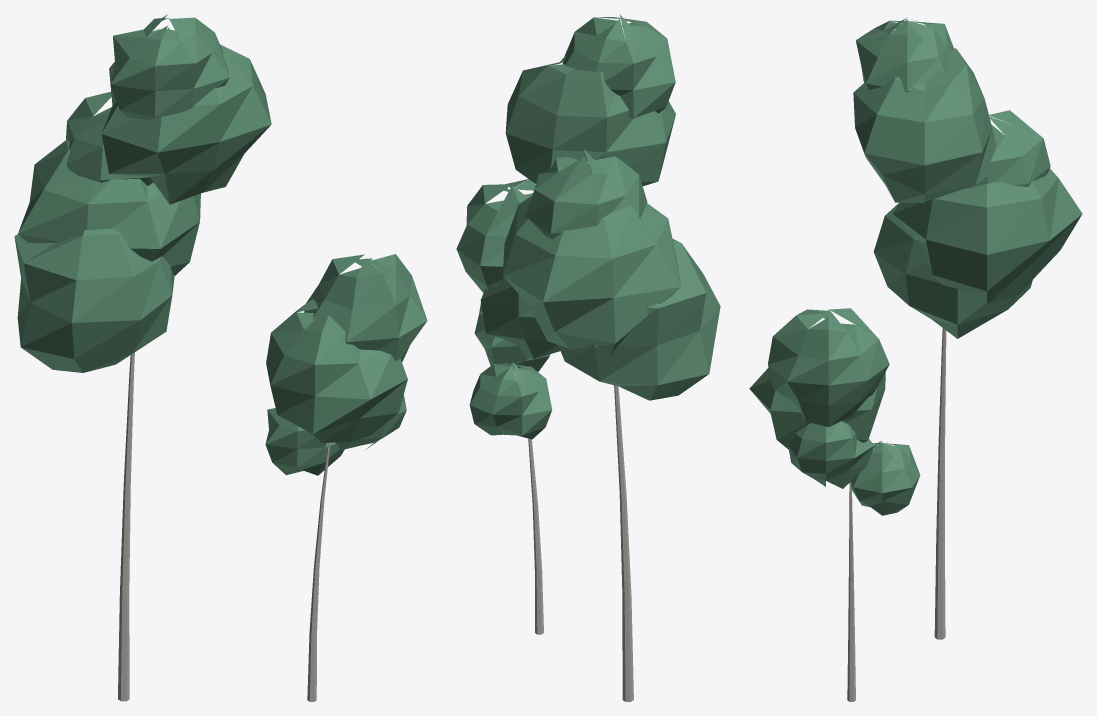
File: temperate-forest-ecology-holly-sapling-clump-680f5dfe__3809.glb
The picture shows the model from 3 angles, left to right: view 1: azimuth 30°, elevation 25°; view 2: azimuth 150°, elevation 25°; view 3: azimuth 270°, elevation 25°; orthographic projection. The views are drawn at different scales.
Visible parts, largest first — view 1: holly-sapling-clump; view 2: holly-sapling-clump; view 3: holly-sapling-clump.
Part boxes in pixels (left/top/right/bottom): holly-sapling-clump: left=14, top=14, right=427, bottom=701; holly-sapling-clump: left=456, top=14, right=720, bottom=701; holly-sapling-clump: left=749, top=17, right=1082, bottom=701.
Bounding box in the file's own units: 1.26 × 2.58 × 1.23.
